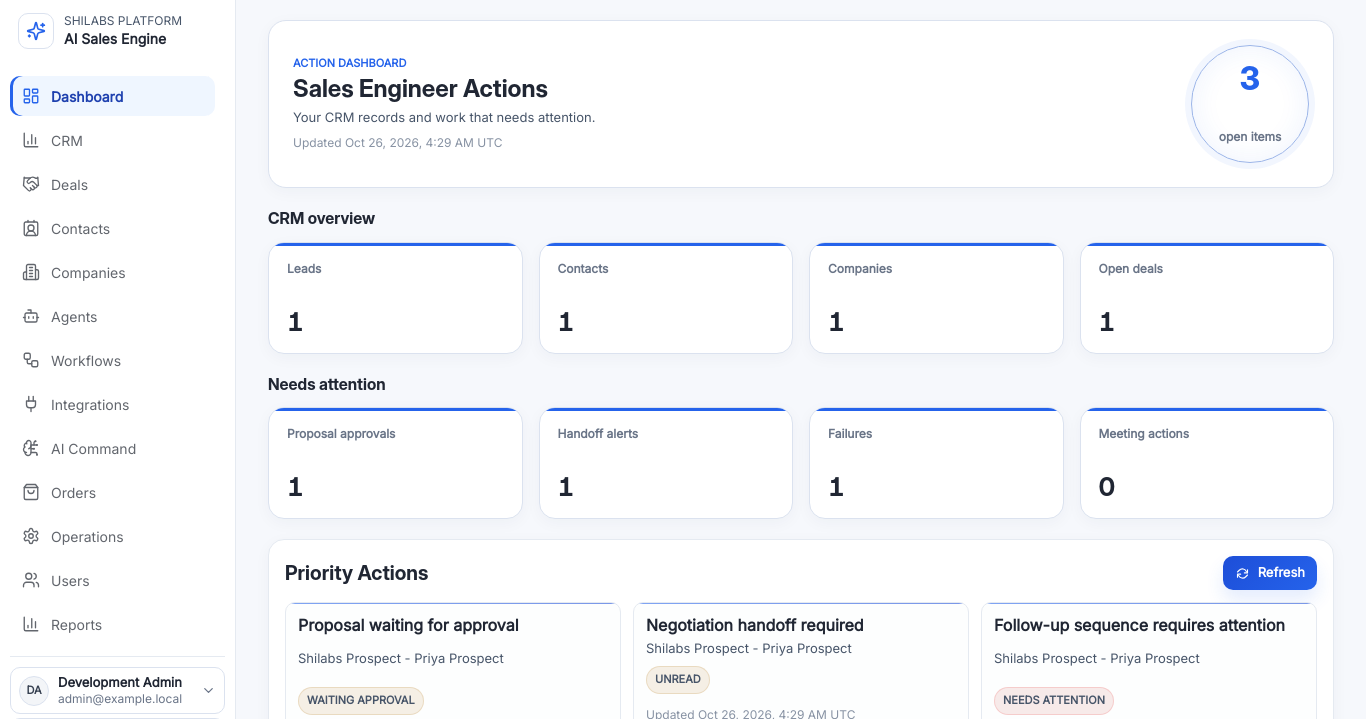
Test: web app › clears authenticated state on logout
The image size is (1366, 719).
Expected: the text "Dashboard" is shown, [51,86,123,107]
Click the button with aria-label "Open account menu": click(118, 690) [10,667,225,714]
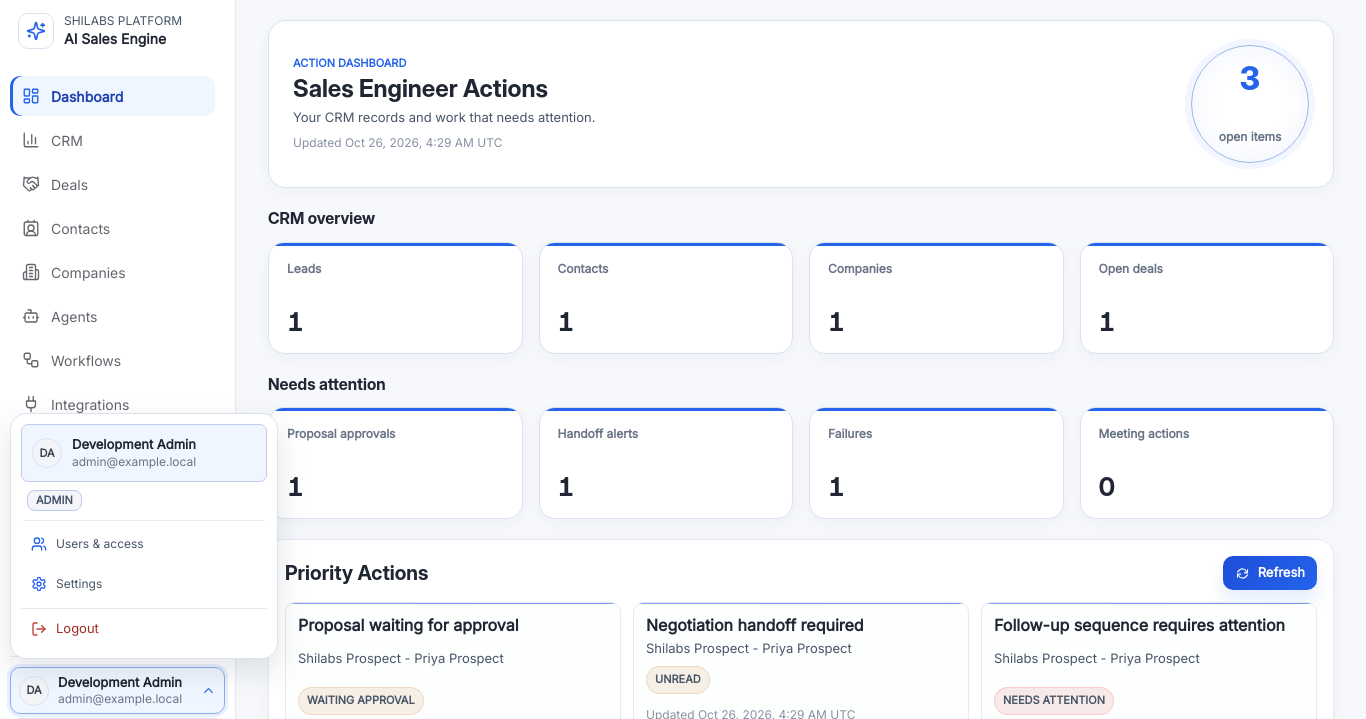
Click the menu item "Logout": click(144, 628) [21,608,267,648]
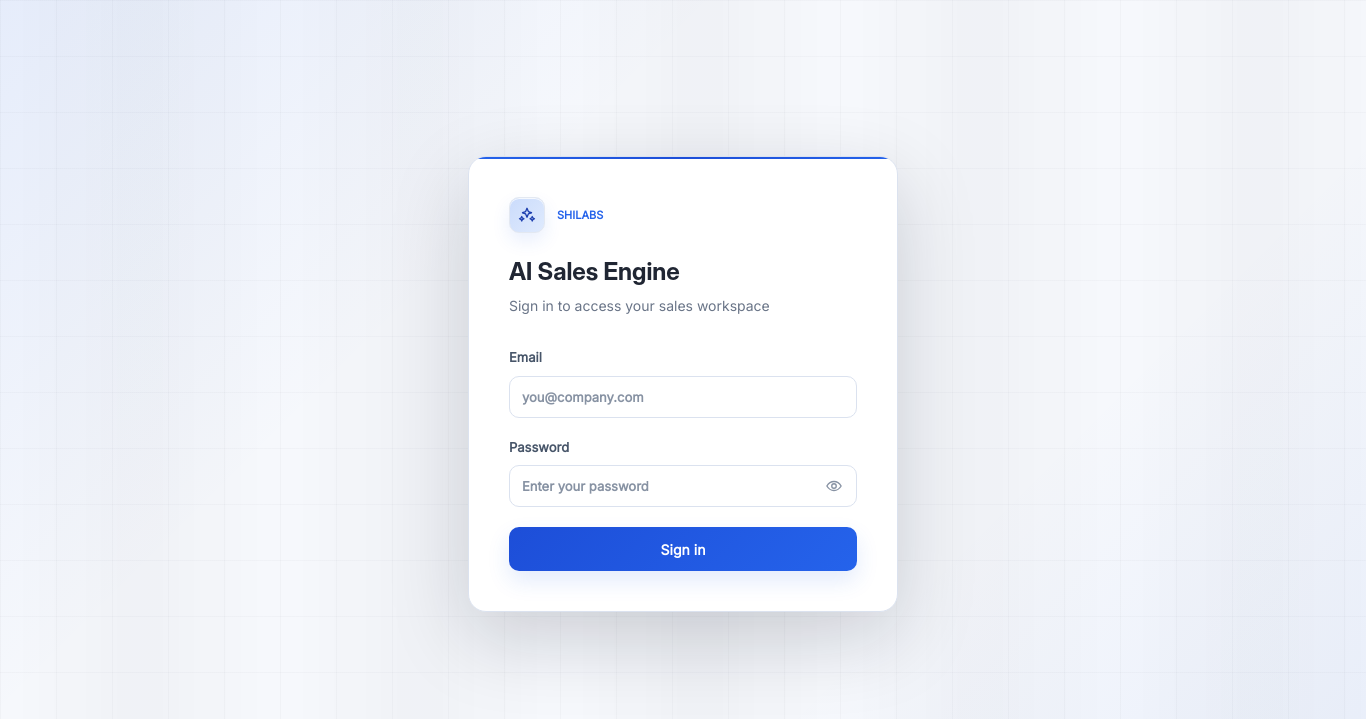
Expected: the button "Sign in" is shown, [509,527,857,571]
